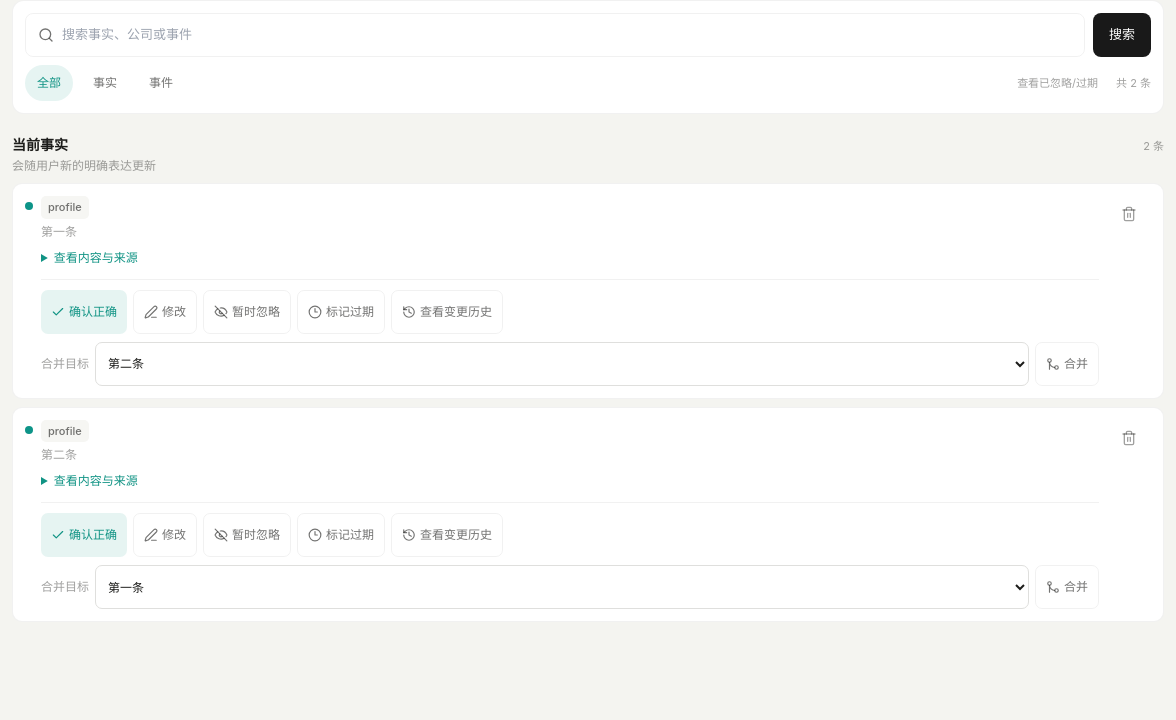
Test: MemoryPanel › 合并时携带两个版本号，409 时提示刷新
The width and height of the screenshot is (1176, 720).
Click the 1st button "合并": coordinates (1067, 364) [1035,342,1099,386]
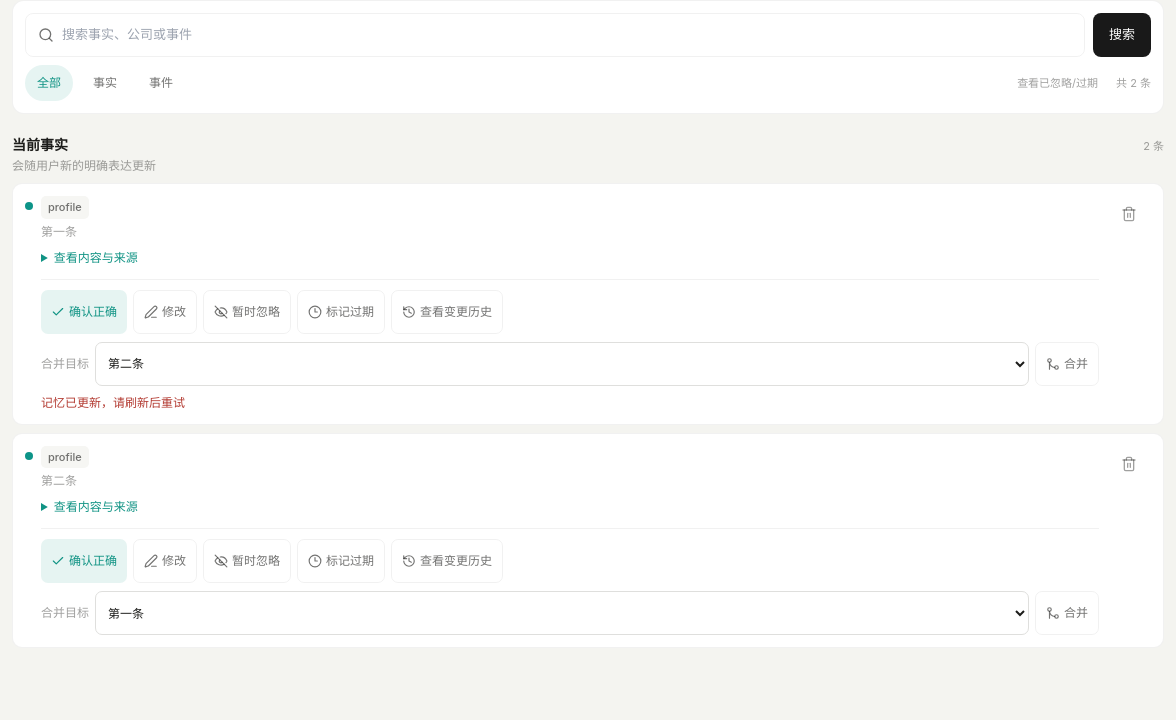
Check: the message reads "记忆已更新，请刷新后重试", box [41,394,185,410]
